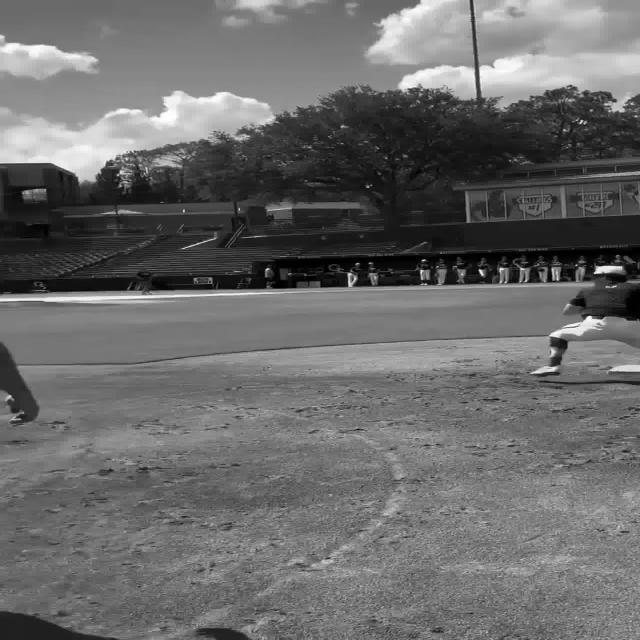base: (607, 365, 640, 374)
shoe: (529, 365, 560, 376)
